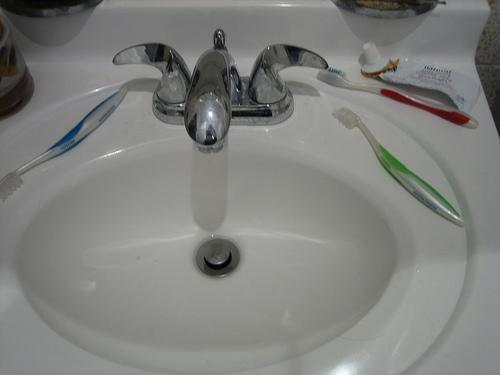Lavamanos: (0, 22, 476, 374)
